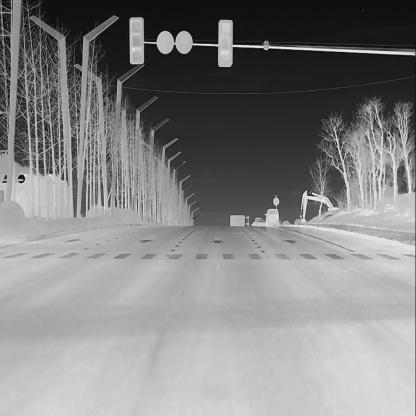car: (265, 208, 279, 226), (253, 215, 265, 226)
